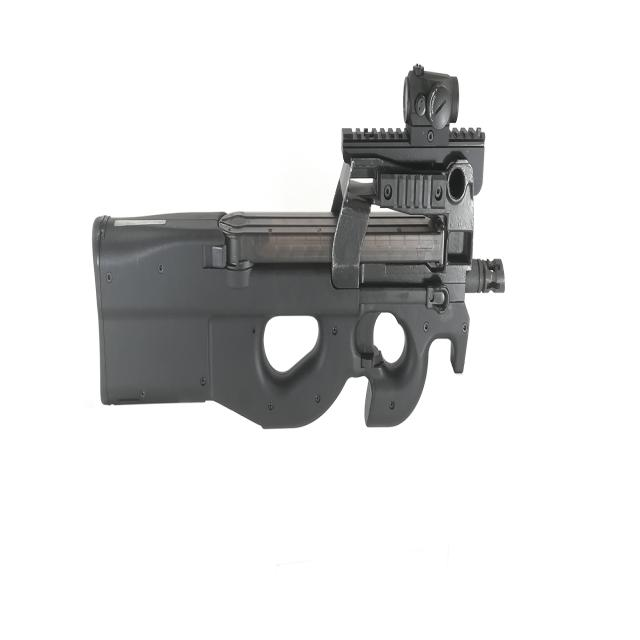SMG: (91, 64, 506, 432)
